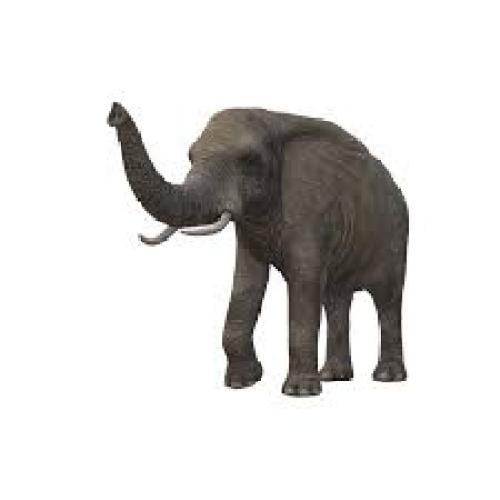asian_elephant-endangered: (106, 99, 410, 399)
